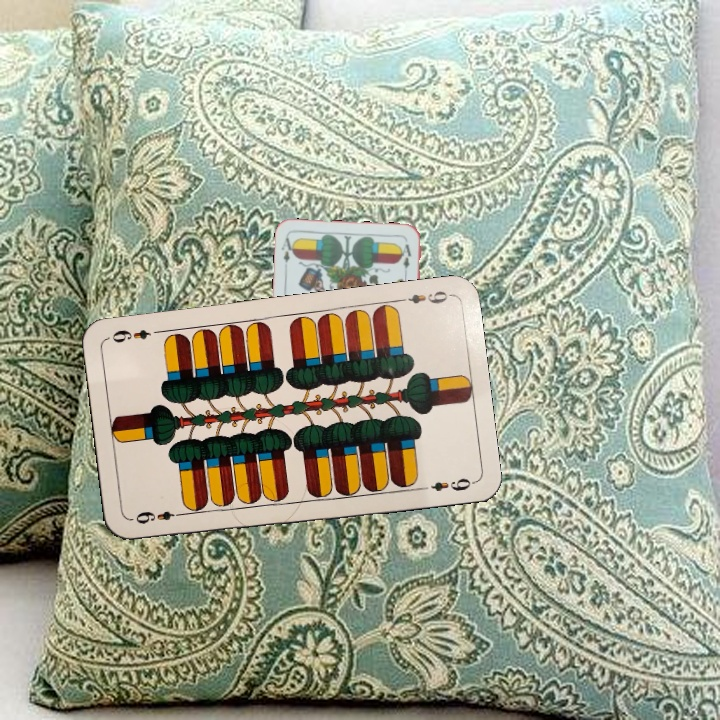E9: (394, 286, 453, 307), (128, 507, 188, 527)
EA: (277, 234, 297, 265)
